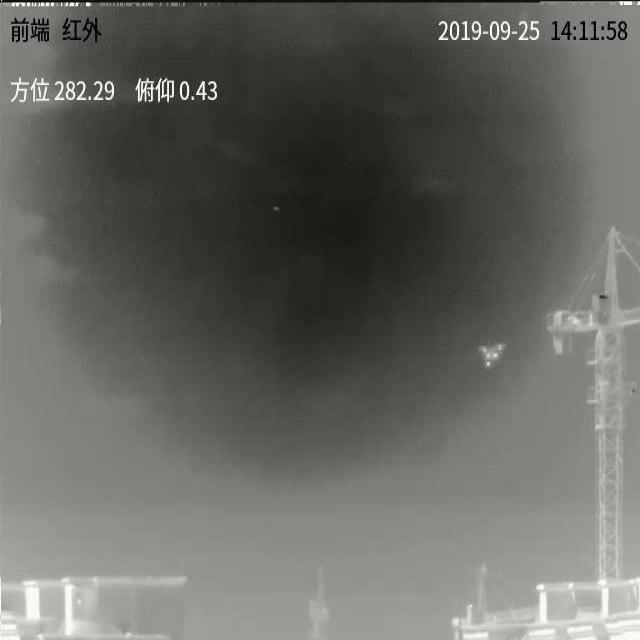drone: (478, 342, 506, 366)
